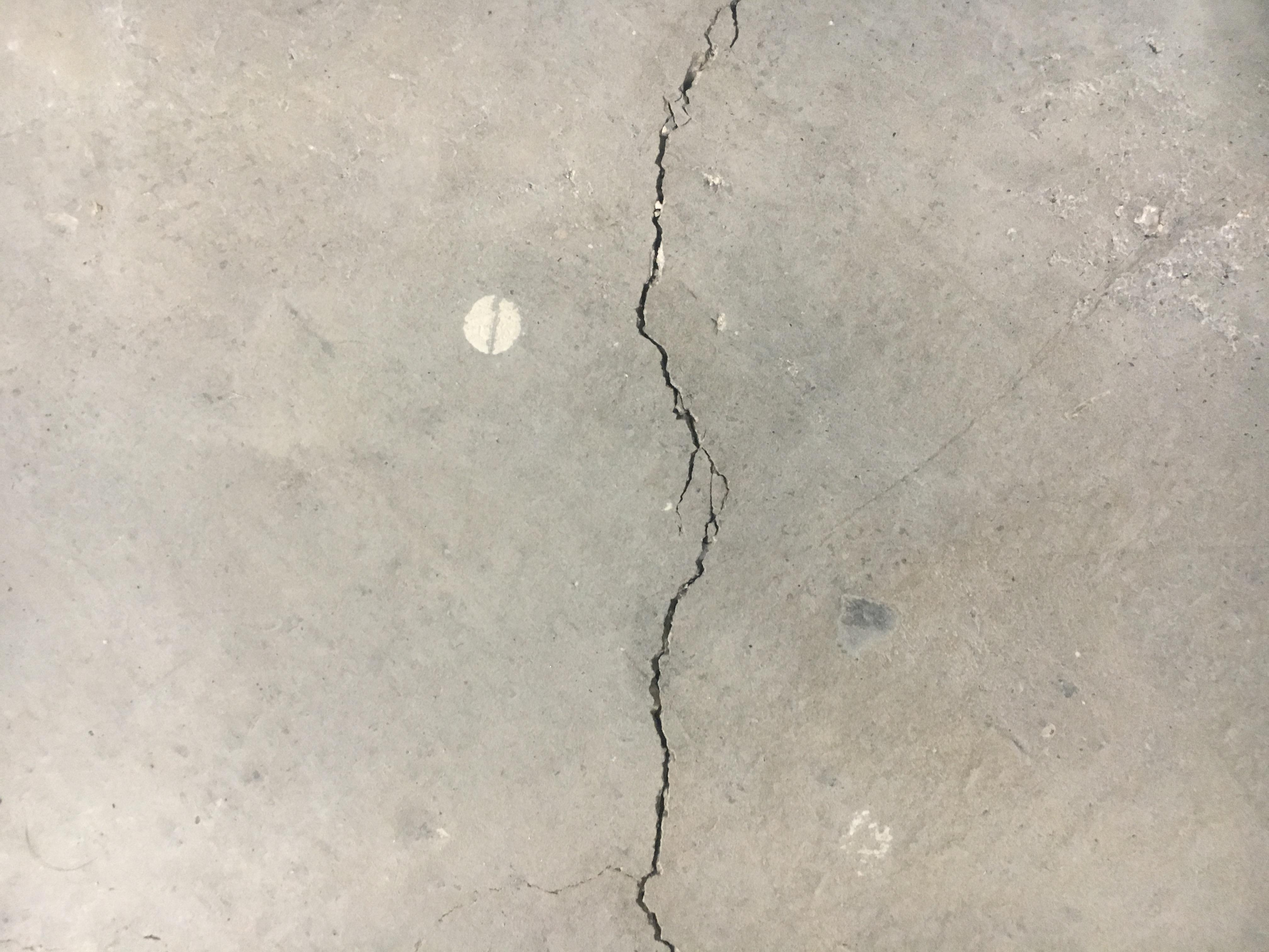Vertical Crack: (628, 2, 743, 947)
